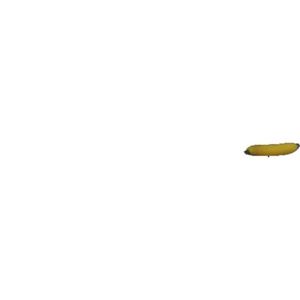banana: (244, 140, 299, 157)
